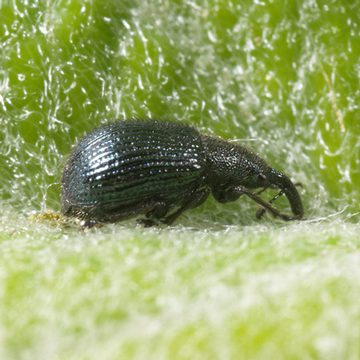dolgonosik: (58, 116, 306, 232)
